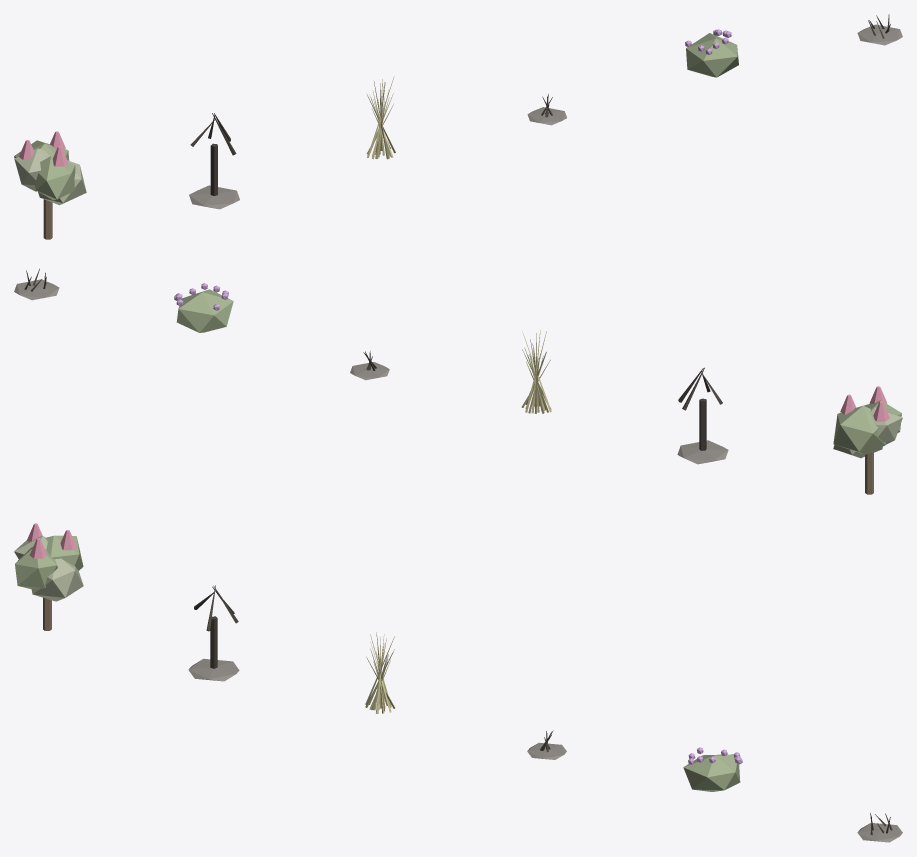
The model's file is fynbos.glb.
The picture shows the model from 3 angles, top to bottom: view 1: azimuth 30°, elevation 25°; view 2: azimuth 150°, elevation 25°; view 3: azimuth 330°, elevation 25°; orthographic projection.
Visible parts, largest first — view 1: protea, erica_dome, restio, protea_ash, erica_ash, restio_ash; view 2: protea, erica_dome, restio, protea_ash, erica_ash, restio_ash; view 3: protea, erica_dome, restio, protea_ash, erica_ash.
Boxes of the visible parts, x1,y1,x2,y2 form: protea: (14,131,86,205); erica_dome: (686,33,738,77); restio: (366,76,395,159); protea_ash: (189,185,239,209); erica_ash: (857,24,902,45); restio_ash: (527,107,566,125); protea: (833,386,902,458); erica_dome: (176,289,233,332); restio: (521,330,551,413); protea_ash: (677,440,728,464); erica_ash: (14,279,59,300); restio_ash: (350,362,389,380); protea: (14,523,83,601); erica_dome: (683,754,740,791); restio: (365,632,395,713); protea_ash: (188,658,239,681); erica_ash: (857,823,902,842).
Bounding box in the file's own units: 15.83 × 1.74 × 1.24.
